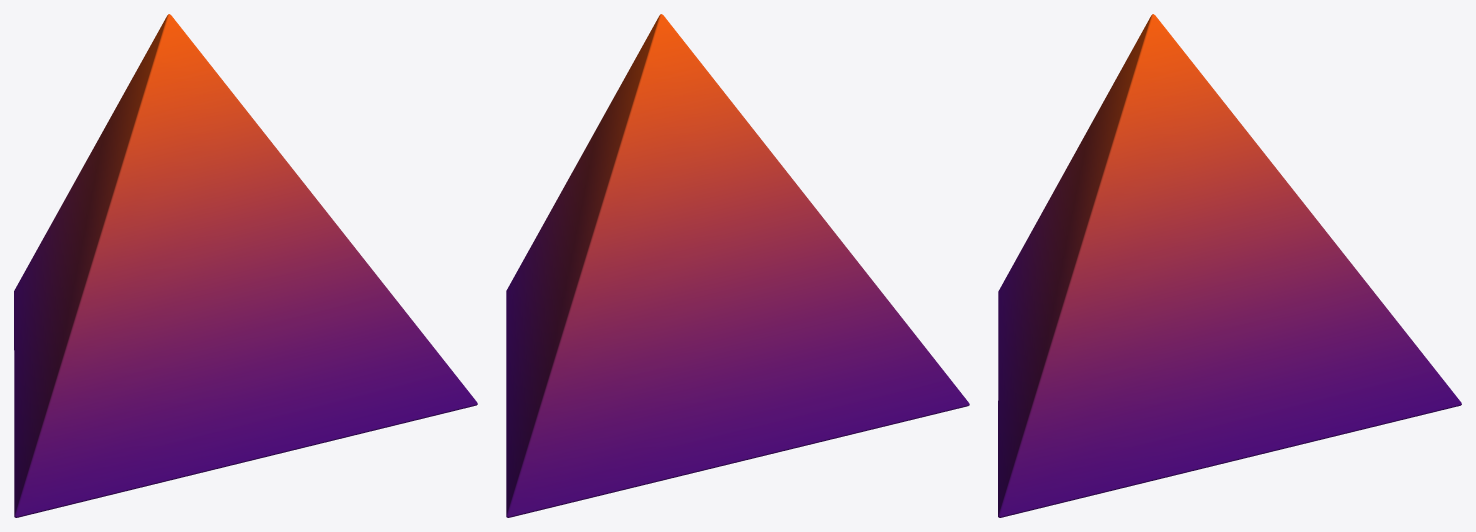
File: zun_triangle.glb
3 views of the same model, side by side, from view 1: azimuth 30°, elevation 25°; view 2: azimuth 150°, elevation 25°; view 3: azimuth 270°, elevation 25° (orthographic).
Parts seen in each view (by area): view 1: Cone; view 2: Cone; view 3: Cone.
Part boxes in pixels (x1,y1,x2,y2): Cone: (14, 14, 477, 517); Cone: (506, 14, 969, 517); Cone: (998, 14, 1461, 517).
Bounding box in the file's own units: 5.44 × 4.41 × 4.72.
Materials: 1 (1 with a texture image).
